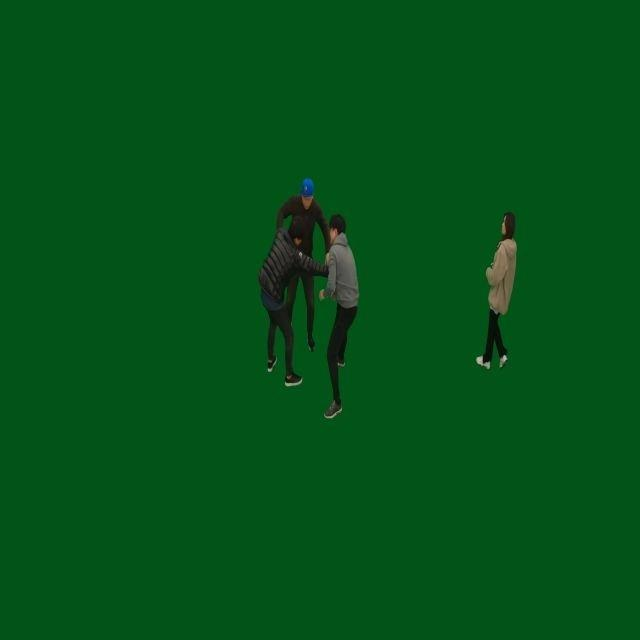fight: (256, 177, 360, 422)
non-fight: (477, 212, 520, 370)
